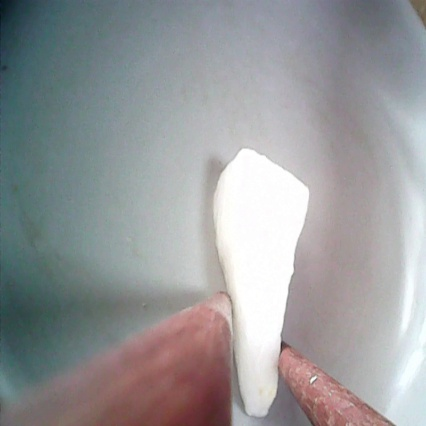white_chinese-yam: (204, 145, 313, 426)
